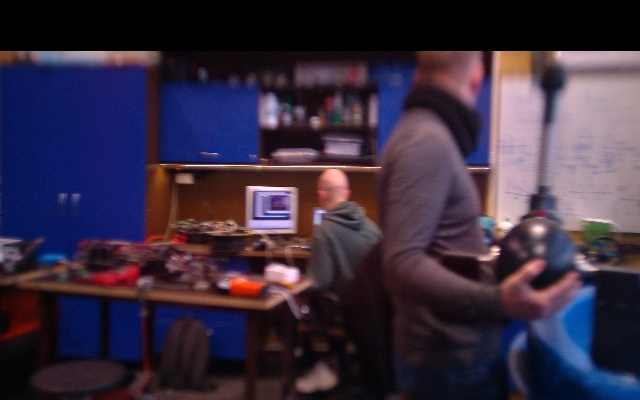black: (538, 115, 558, 197)
